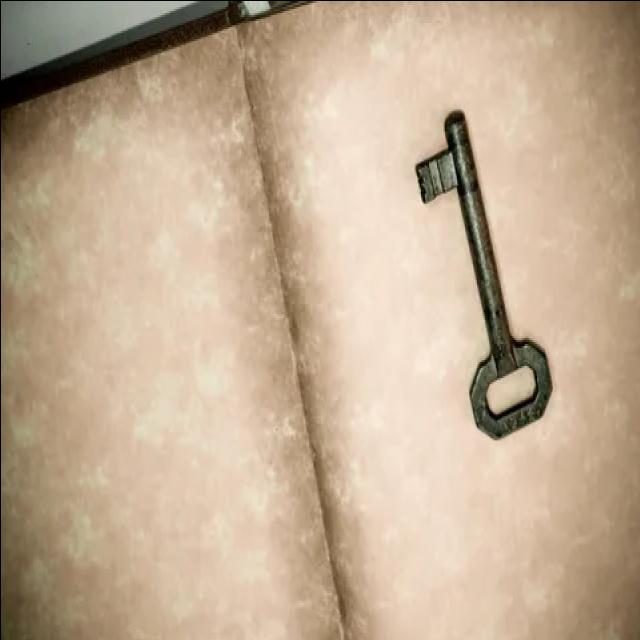key: (398, 62, 562, 454)
